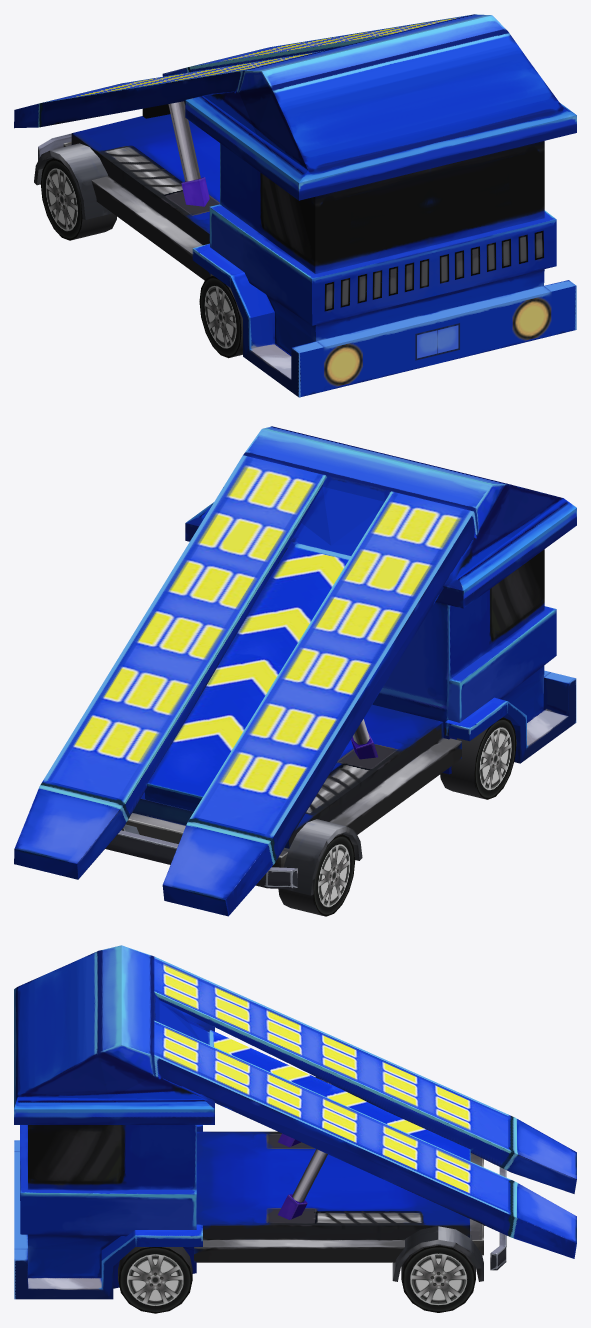
Rendered from model_Mcar10.FBX.
3 renders of one model, top to bottom at view 1: azimuth 30°, elevation 25°; view 2: azimuth 150°, elevation 25°; view 3: azimuth 270°, elevation 25°, orthographic. The views are drawn at different scales.
Parts seen in each view (by area): view 1: daojuche10; view 2: daojuche10; view 3: daojuche10.
Boxes of the visible parts, x1,y1,x2,y2 form: daojuche10: (14, 14, 576, 397); daojuche10: (14, 426, 576, 916); daojuche10: (14, 945, 576, 1313).
Bounding box in the file's own units: 139 × 139 × 275.
